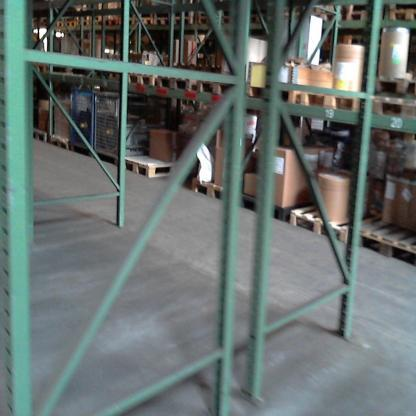pallets: (279, 74, 415, 118), (31, 125, 122, 172), (126, 69, 232, 103), (282, 203, 349, 253), (353, 214, 415, 268), (46, 62, 126, 92), (226, 77, 267, 106), (124, 155, 172, 178), (193, 179, 224, 199)
